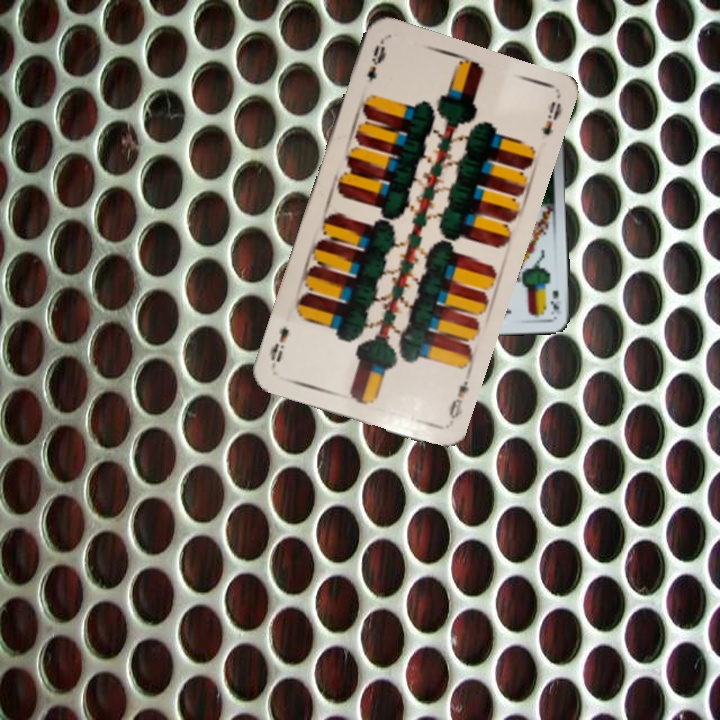E9: (362, 37, 389, 84), (444, 376, 471, 421)
EK: (548, 286, 563, 314)
